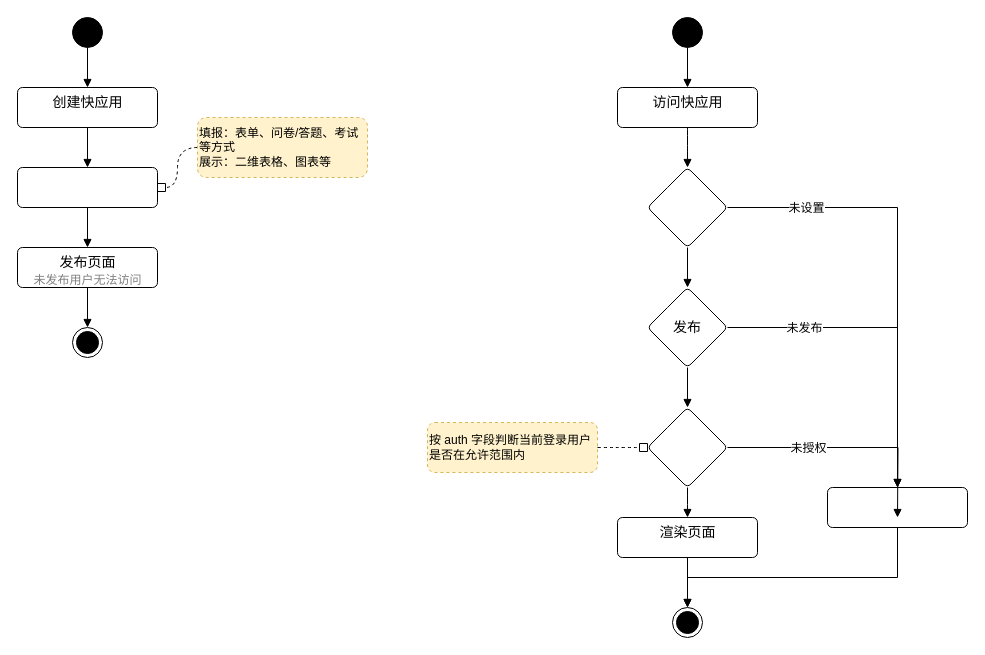
This 985x655 diagram has some shape labels left out. Here are the shapes that lost their labels. From the top down, the box of each, then its label:
(16, 166, 158, 208): 编辑页面 数据填报、数据展示
(646, 166, 728, 248): 主页面
(646, 406, 728, 488): 访问授权
(826, 486, 968, 528): 终止 给出信息提示
